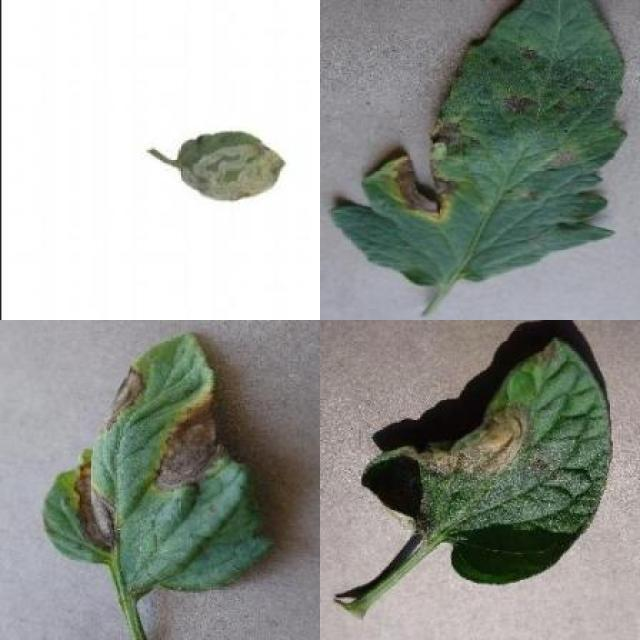Early Blight: (330, 0, 627, 286), (42, 331, 272, 593)
Late Blight: (358, 334, 613, 586)
Leaf Miner: (175, 132, 285, 204)
